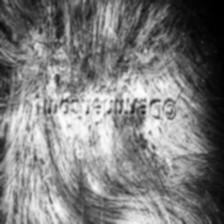Non-Cancerous Skin Condition: (24, 0, 149, 96), (56, 122, 162, 172)
